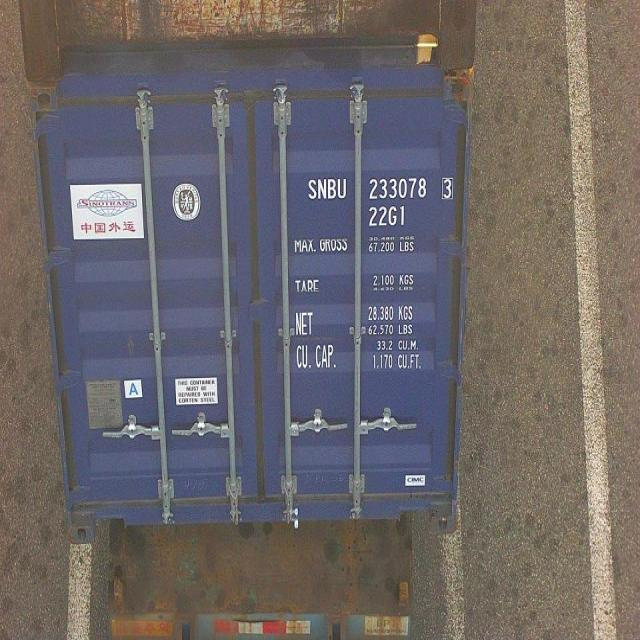ISO: (370, 206, 408, 228)
container_number: (300, 172, 454, 202)
